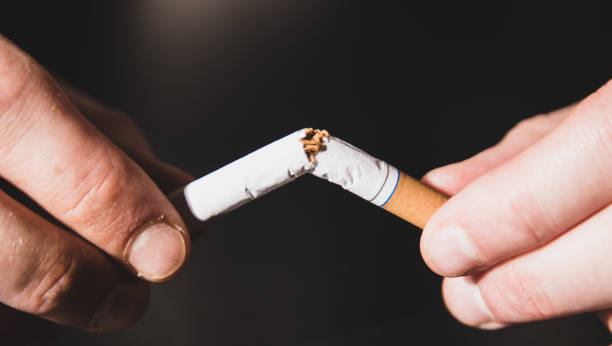cigarette: (163, 128, 317, 230), (306, 131, 451, 229)
